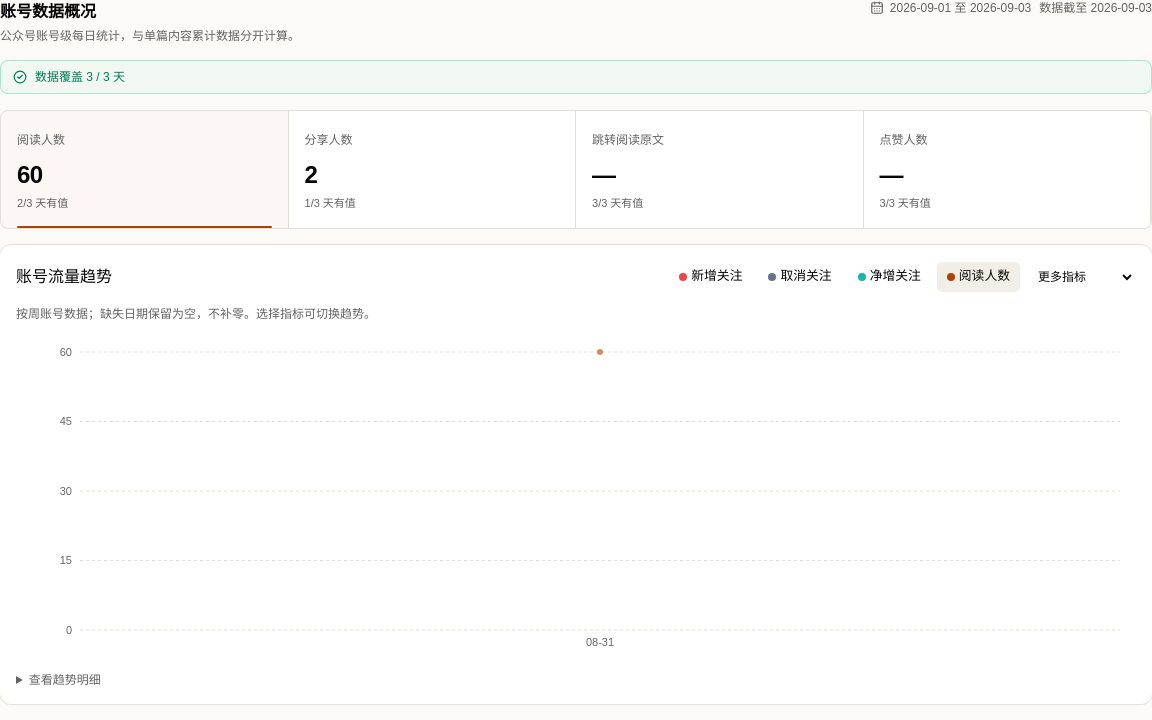
it: WeChat account analytics contract › groups account trend rows by the selected week granularity
This screenshot has width=1152, height=720.
Click the heading "查看趋势明细": (65, 680) [29,673,101,687]
(page scrolled)
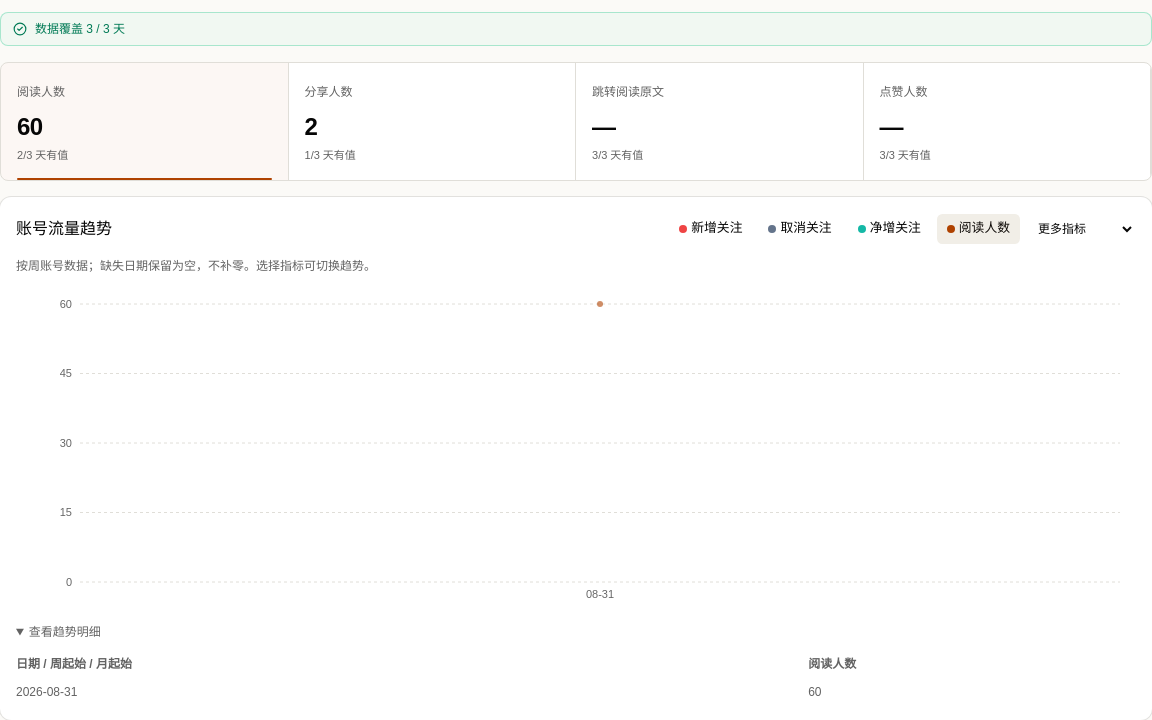
Expected: the text "2026-09-01" is not shown
Expected: the text "2026-08-31" is shown, [16,680,808,704]
